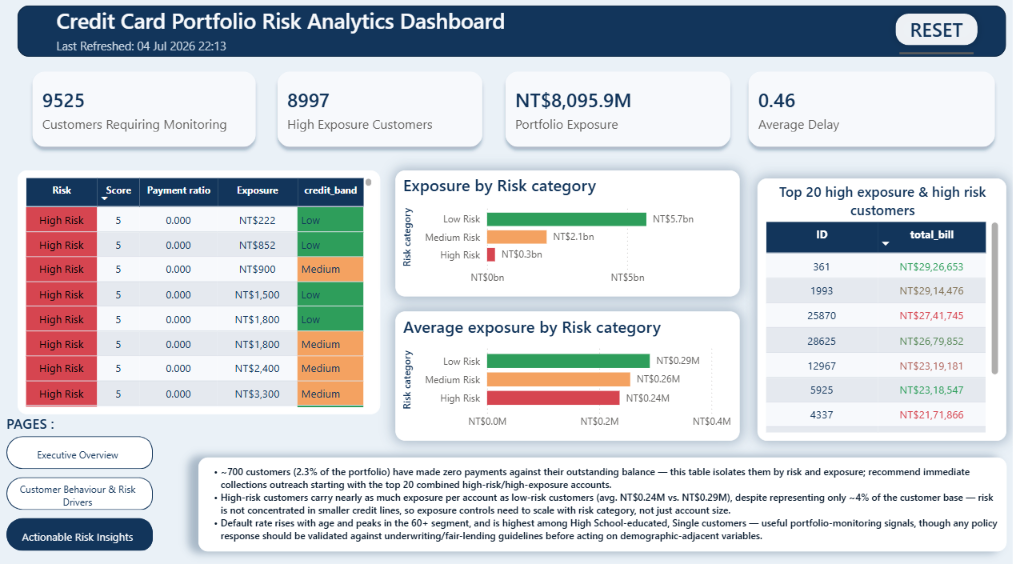

The dashboard page shown, as its layout file describes it:
{"tool":"powerbi","page":{"name":"Actionable Risk Insights ","canvas":[1280,720],"ordinal":2},"visuals":[{"type":"shape","box":[28.6,14.3,1235.7,64.3],"z":0},{"type":"shape","box":[1115.7,14.3,122.9,60],"z":1000},{"type":"pageNavigator","title":"PAGES :","box":[15,525,183.3,171.7],"z":2000},{"type":"textbox","title":"Credit Card Portfolio Risk Analytics Dashboard","box":[72.9,14.3,624.3,64.3],"z":3000},{"type":"actionButton","title":"RESET","box":[1131.4,27.1,92.9,47.1],"z":4000},{"type":"cardVisual","fields":{"Data":["Measures (2).Customers Requiring Monitoring"]},"box":[18.8,67.5,337.5,162.5],"z":5000},{"type":"cardVisual","fields":{"Data":["Measures (2).High Exposure Customers"]},"box":[325,67.5,315,162],"z":6000},{"type":"cardVisual","fields":{"Data":["Measures (2).Total Portfolio Exposure (Formatted)"]},"box":[610,67.5,343.8,162],"z":7000},{"type":"cardVisual","fields":{"Data":["Measures (2).Average Delay"]},"box":[913.8,67.5,366.2,162],"z":8000},{"type":"tableEx","fields":{"Values":["customers.risk_category","customers.risk_score","customers.payment_ratio","customers.total_bill","customers.credit_band"]},"box":[28.8,220,453.8,305],"z":9000},{"type":"clusteredBarChart","fields":{"Category":["customers.risk_category"],"Y":["Sum(customers.Exposure)"]},"box":[501.2,230,430,295],"z":10000},{"type":"tableEx","title":"Top 20 high exposure customers","fields":{"Values":["customers.ID","customers.total_bill"]},"box":[953.8,230,311.2,295],"z":11000},{"type":"textbox","box":[256,564,982,120],"z":11001}]}

Visuals, with their boxes in screenshot pixels (x1, y1, x2, y2), scaled from the page's 1280x720 canvas onto the 1013x565 screenshot:
shape: box(23, 11, 1001, 62)
shape: box(883, 11, 980, 58)
"PAGES :" pageNavigator: box(12, 412, 157, 547)
"Credit Card Portfolio Risk Analytics Dashboard" textbox: box(58, 11, 552, 62)
"RESET" actionButton: box(895, 21, 969, 58)
cardVisual - Measures (2).Customers Requiring Monitoring: box(15, 53, 282, 180)
cardVisual - Measures (2).High Exposure Customers: box(257, 53, 506, 180)
cardVisual - Measures (2).Total Portfolio Exposure (Formatted): box(483, 53, 755, 180)
cardVisual - Measures (2).Average Delay: box(723, 53, 1012, 180)
tableEx - customers.risk_category x customers.risk_score: box(23, 173, 382, 412)
clusteredBarChart - customers.risk_category x Sum(customers.Exposure): box(397, 180, 737, 412)
"Top 20 high exposure customers" tableEx: box(755, 180, 1001, 412)
textbox: box(203, 443, 980, 537)
